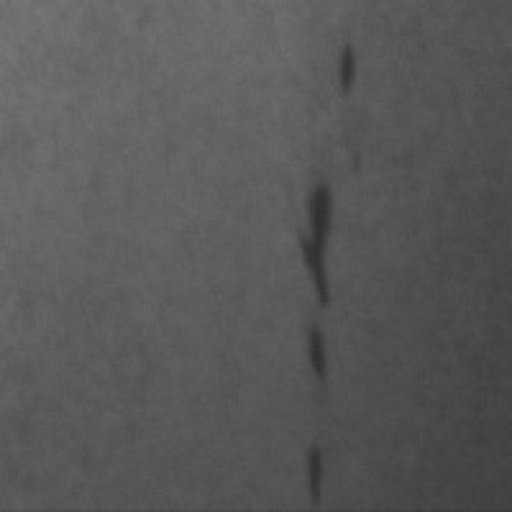inclusion: (287, 176, 335, 310), (331, 39, 369, 101), (301, 318, 335, 385), (302, 439, 331, 503)
